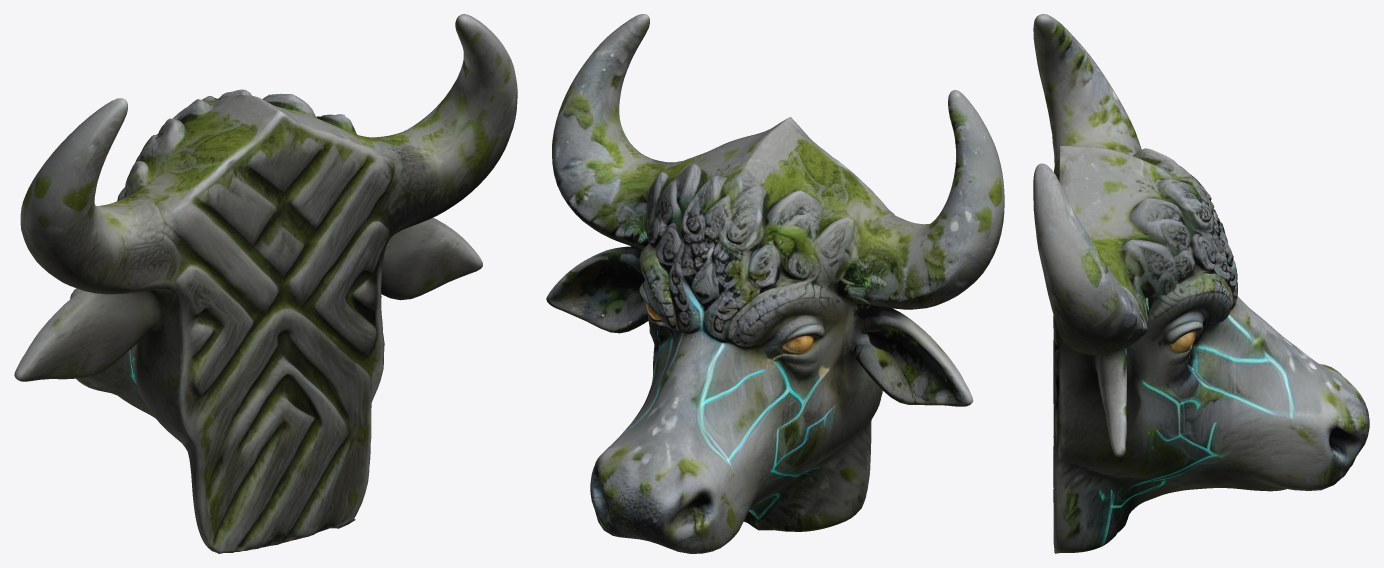
Rendered from kerbau-langit.glb.
3 views of the same model, side by side, from view 1: azimuth 30°, elevation 25°; view 2: azimuth 150°, elevation 25°; view 3: azimuth 270°, elevation 25° (orthographic). The views are drawn at different scales.
Visible parts, largest first — view 1: kerbau-langit; view 2: kerbau-langit; view 3: kerbau-langit.
Part boxes in pixels (box(x1,y1,x2,y2)): kerbau-langit: box(14, 14, 517, 553); kerbau-langit: box(546, 14, 1004, 553); kerbau-langit: box(1033, 14, 1369, 553).
Bounding box in the file's own units: 1.01 × 1 × 0.69.
1 material, 1 textured.
